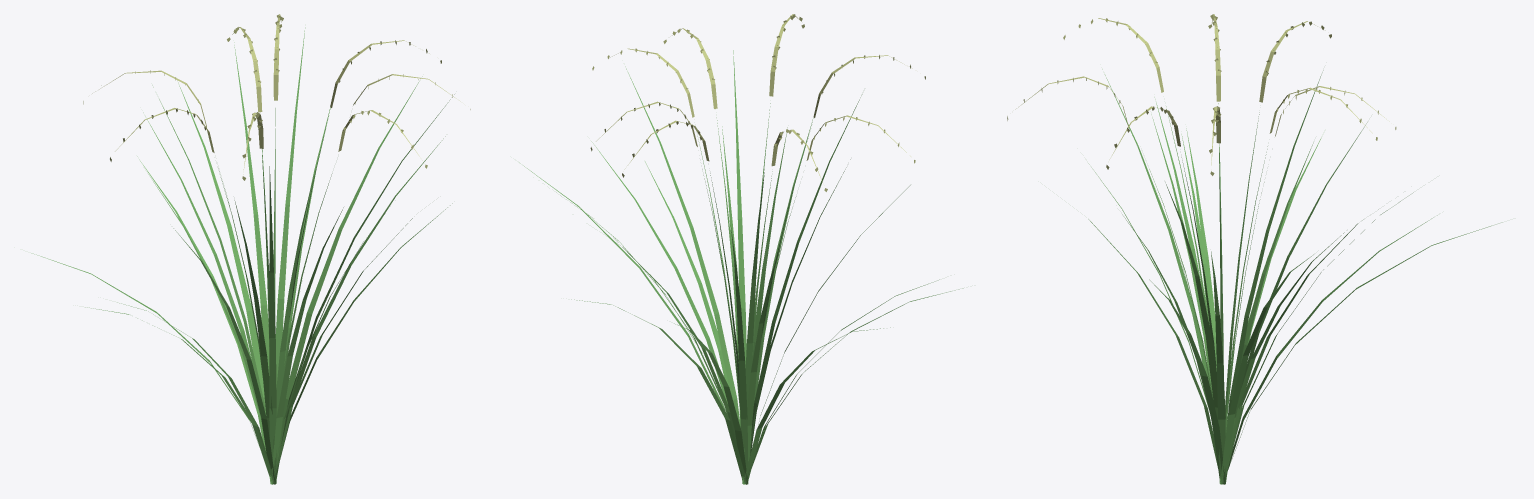
The model's file is rice_heading_lod0.glb.
3 renders of one model, left to right at view 1: azimuth 30°, elevation 25°; view 2: azimuth 150°, elevation 25°; view 3: azimuth 270°, elevation 25°, orthographic. The views are drawn at different scales.
Visible parts, largest first — view 1: rice_heading_leaves, rice_heading_panicles, rice_heading_culms; view 2: rice_heading_leaves, rice_heading_panicles, rice_heading_culms; view 3: rice_heading_leaves, rice_heading_culms, rice_heading_panicles.
Boxes of the visible parts, <box> form: rice_heading_leaves: <box>31,27,454,484</box>; rice_heading_panicles: <box>83,14,470,180</box>; rice_heading_culms: <box>218,108,332,395</box>; rice_heading_leaves: <box>519,50,963,484</box>; rice_heading_panicles: <box>590,14,925,191</box>; rice_heading_culms: <box>697,103,808,418</box>; rice_heading_leaves: <box>1088,69,1502,484</box>; rice_heading_culms: <box>1166,103,1267,483</box>; rice_heading_panicles: <box>1007,14,1396,175</box>.
Bounding box in the file's own units: 0.9914 × 0.9485 × 1.03.
